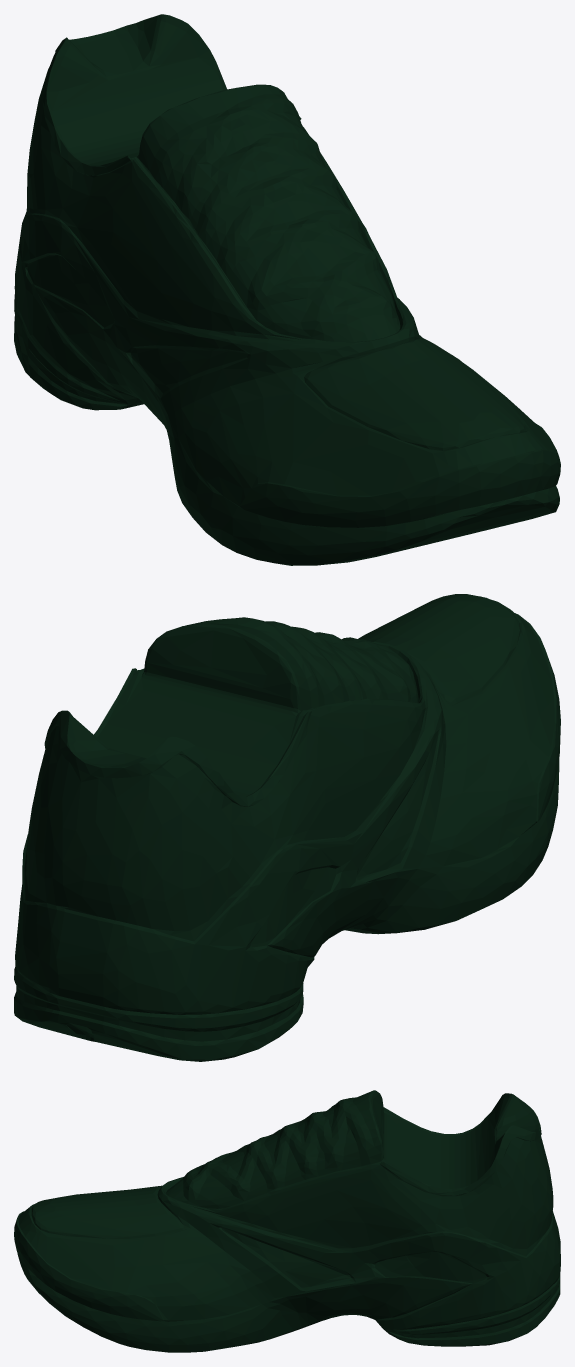
File: shoes_green.obj
3 views of the same model, one above another, from view 1: azimuth 30°, elevation 25°; view 2: azimuth 150°, elevation 25°; view 3: azimuth 270°, elevation 25° (orthographic). The views are drawn at different scales.
Visible parts, largest first — view 1: 8971Ce84B07E437Daabf723Eeddf064B.007; view 2: 8971Ce84B07E437Daabf723Eeddf064B.007; view 3: 8971Ce84B07E437Daabf723Eeddf064B.007.
Part boxes in pixels (x1=…): 8971Ce84B07E437Daabf723Eeddf064B.007: x1=14, y1=14, x2=560, y2=565; 8971Ce84B07E437Daabf723Eeddf064B.007: x1=14, y1=594, x2=560, y2=1061; 8971Ce84B07E437Daabf723Eeddf064B.007: x1=14, y1=1090, x2=560, y2=1352.
Bounding box in the file's own units: 0.1256 × 0.1371 × 0.3201.
